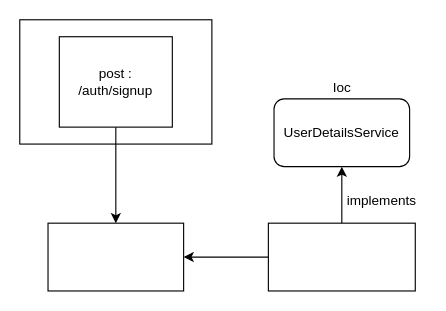
Some shapes in this 446 by 311 pixel diagram are drawn without their labels. Here are the shapes that lost their labels. From the top down, the centre of each, then its label:
At [115,256]: "로그인 진행".
At [341,256]: "PrincipalDetailsService".
